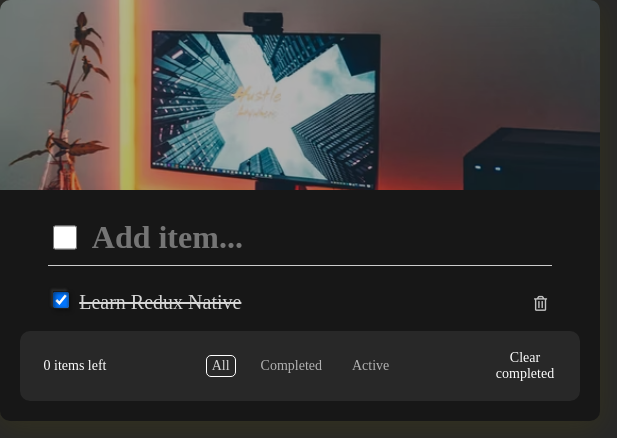
ToDoListContainer › should edit todo on double click and Enter key
Double-click the label with test id "list-item-text".
double_click(160, 302)  # box [79,291,241,313]
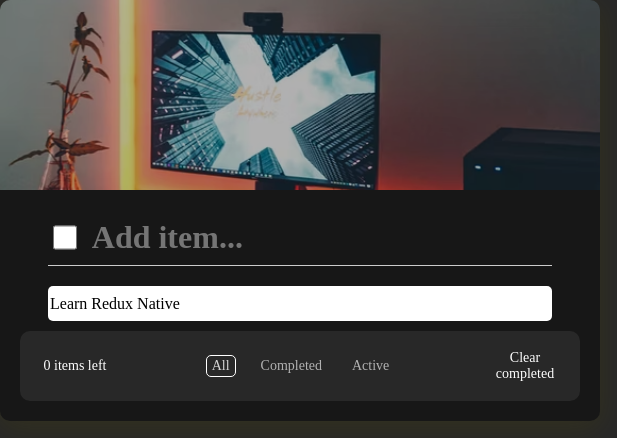
Result: the field with test id "edit-item" is shown
Type "Learn Redux Toolkit " into the field with test id "edit-item".
click(300, 304); type("Learn Redux Toolkit ")  # box [48,286,552,321]
Then press Enter
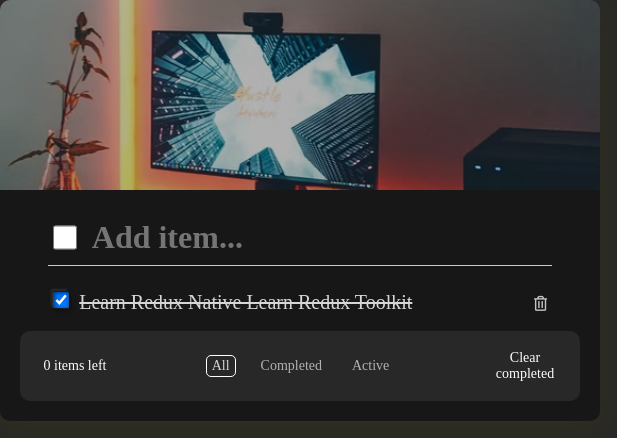
Result: the field with test id "edit-item" is gone
Result: the label with test id "list-item-text" shows "Learn Redux Toolkit" at [79,291,412,313]
